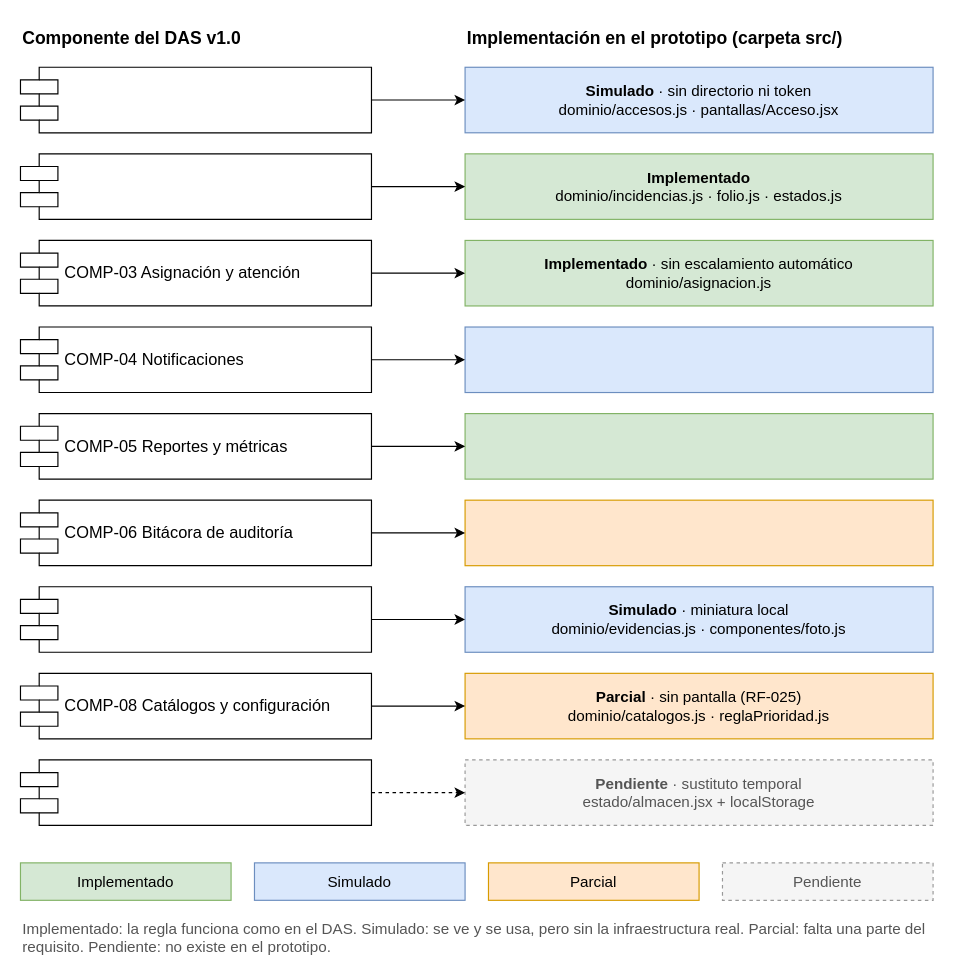
Image size: 954x978. Some labels were removed from this diagram. Each missing label, with the box of its shape:
API REST, base de datos, directorio y correo: (19, 759, 371, 825)
COMP-01 Accesos: (19, 66, 371, 133)
COMP-02 Incidencias: (19, 153, 371, 219)
COMP-07 Evidencias: (19, 586, 371, 652)
Implementado · PDF por impresión dominio/metricas.js · pantallas/Indicadores.jsx: (464, 412, 933, 479)
Parcial · solo en el navegador dominio/observadores.js (Bitacora): (464, 499, 933, 566)
Simulado · avisos sin correo dominio/observadores.js (Notificaciones): (464, 326, 933, 393)
